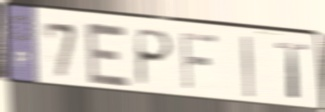7: (42, 20, 79, 79)
E: (83, 19, 133, 90)
F: (179, 29, 220, 93)
I: (240, 34, 255, 100)
P: (134, 26, 176, 89)
T: (274, 40, 311, 101)
